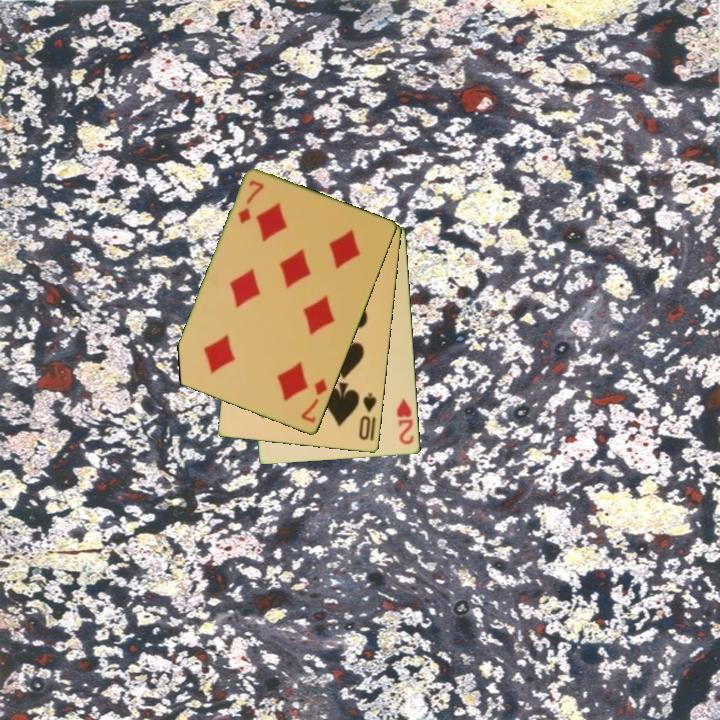10s: (356, 390, 379, 443)
2h: (393, 395, 417, 447)
7d: (298, 375, 331, 426), (235, 177, 267, 227)
